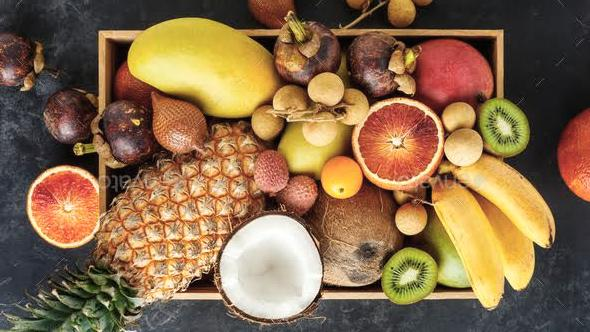chuoi: (430, 154, 559, 309)
mang_cut: (348, 32, 415, 98), (90, 100, 152, 168)
xoai: (124, 13, 274, 117)
